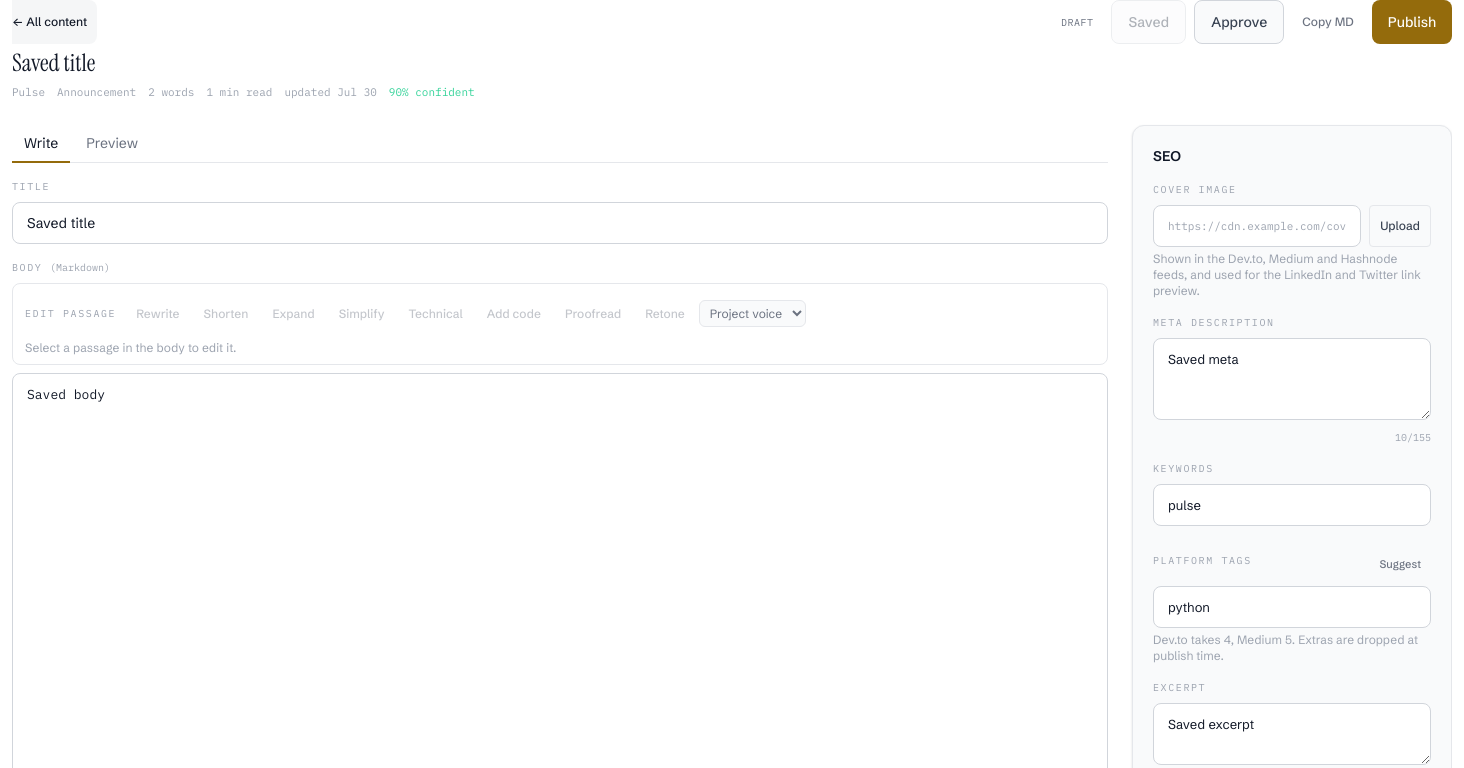
auto-save › reports a failure inline rather than as a toast
Replace the text in the field labelled "Title" with "Saved title!" at {"x": 560, "y": 222}, box x1=12 y1=202 x2=1108 y2=244
Wait 2000 ms
(page scrolled)
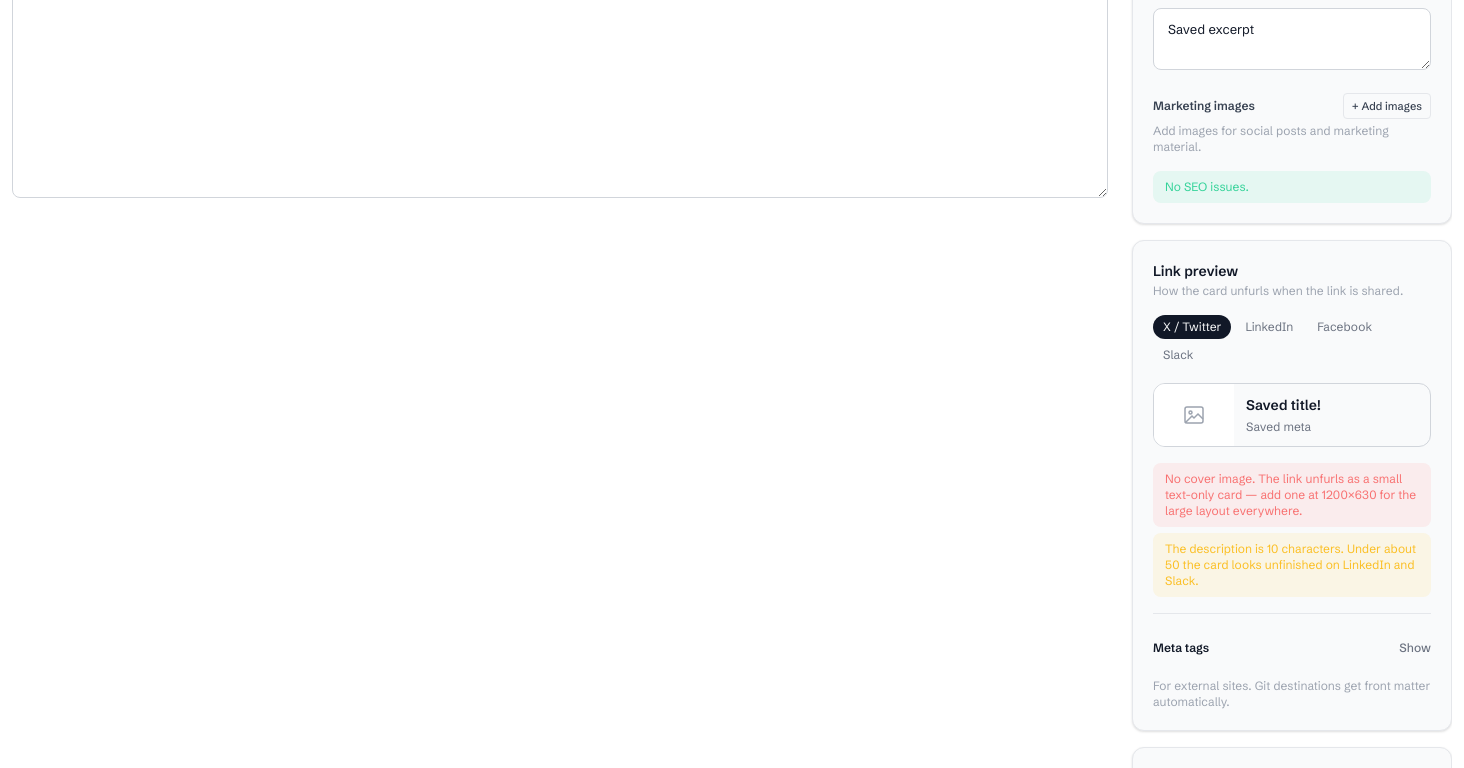
Check: the text "Saved title!" is shown, box x1=1246 y1=396 x2=1321 y2=414
